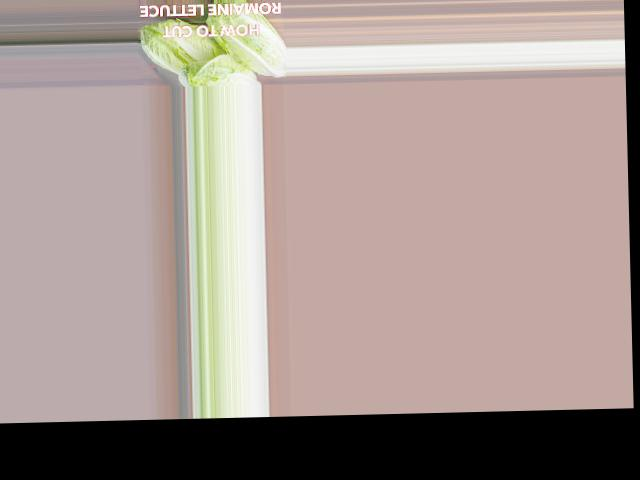lettuce: (136, 11, 230, 80)
